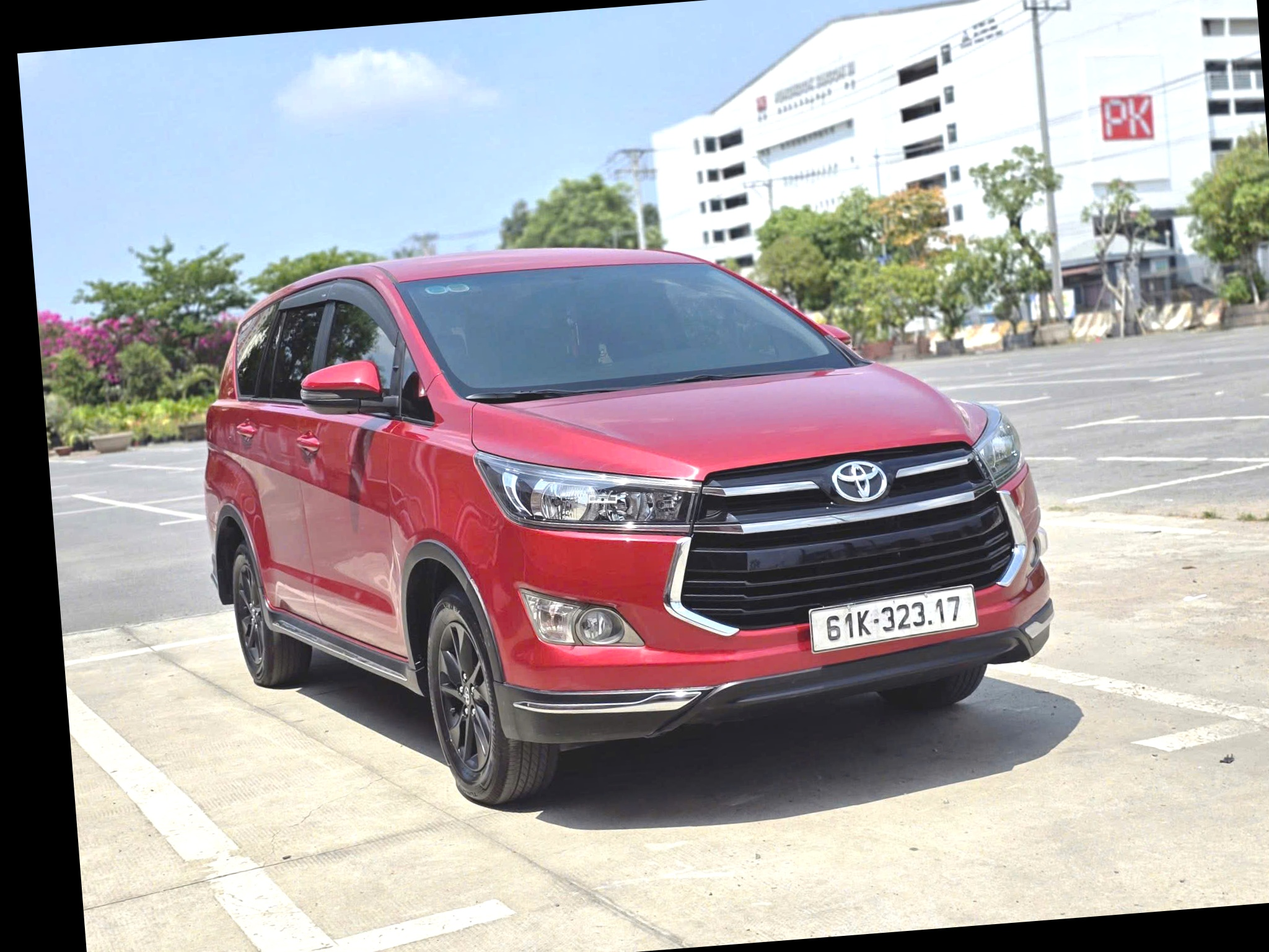Bien-so: (809, 590, 980, 650)
